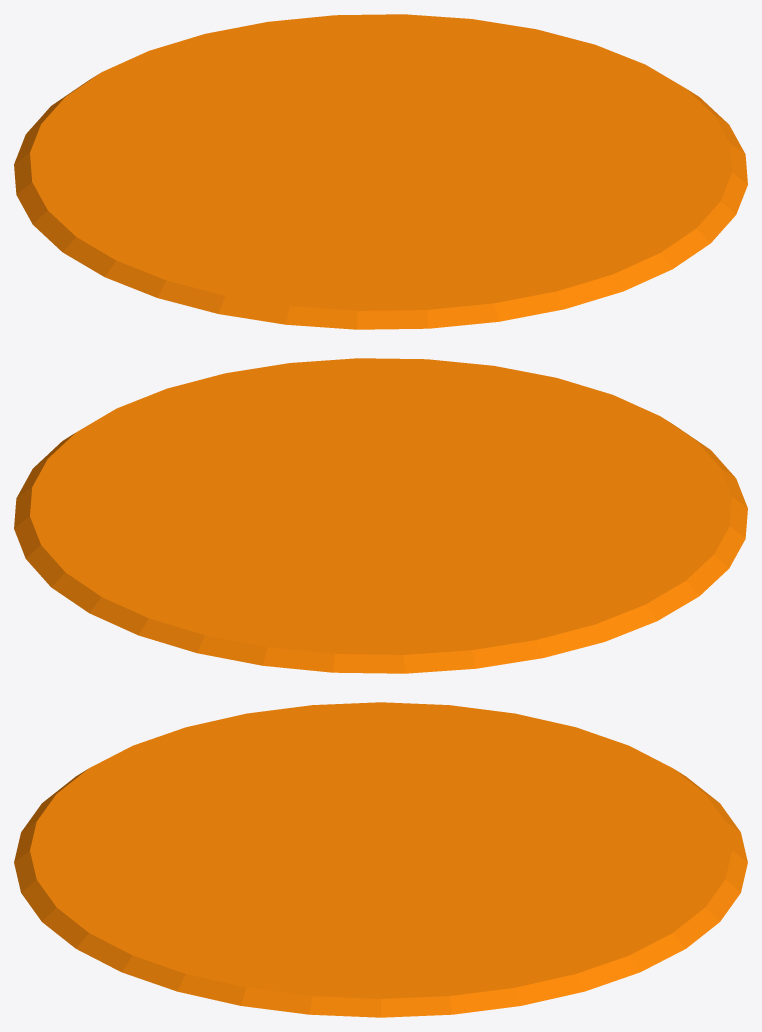
File: ALFOMBRA.glb
3 views of the same model, one above another, from view 1: azimuth 30°, elevation 25°; view 2: azimuth 150°, elevation 25°; view 3: azimuth 270°, elevation 25° (orthographic).
Parts seen in each view (by area): view 1: ALFOMBRA; view 2: ALFOMBRA; view 3: ALFOMBRA.
Part boxes in pixels (x1,y1,x2,y2): ALFOMBRA: (14, 14, 747, 329); ALFOMBRA: (14, 358, 747, 673); ALFOMBRA: (14, 702, 747, 1017).
Size of the model in its own units: 5.96 by 0.1076 by 5.96.
Materials: 1 (1 with a texture image).
